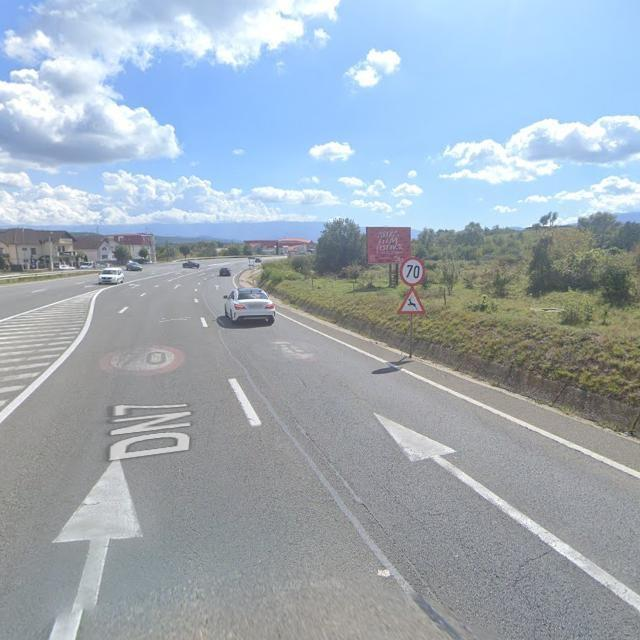forb_speed_over_70: (400, 256, 425, 287)
